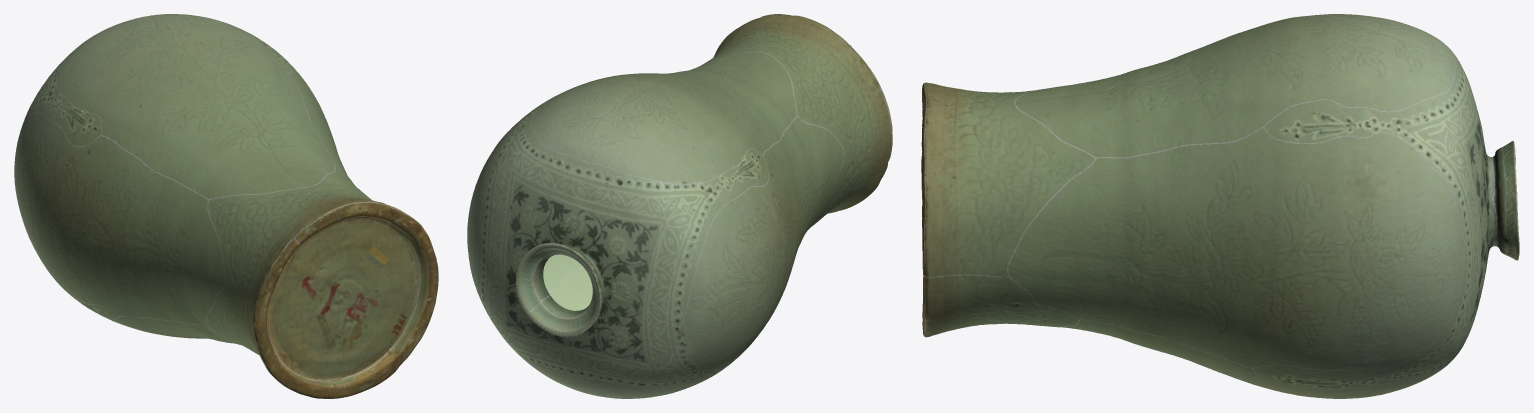
The model's file is nmk-350.glb.
3 views of the same model, side by side, from view 1: azimuth 30°, elevation 25°; view 2: azimuth 150°, elevation 25°; view 3: azimuth 270°, elevation 25° (orthographic). The views are drawn at different scales.
Parts seen in each view (by area): view 1: bon001981-001-30000; view 2: bon001981-001-30000; view 3: bon001981-001-30000.
Boxes of the visible parts, x1,y1,x2,y2 form: bon001981-001-30000: (14,14,438,398); bon001981-001-30000: (467,14,892,398); bon001981-001-30000: (921,14,1519,398).
Size of the model in its own units: 0.9521 by 0.9549 by 1.48.
Materials: 1 (1 with a texture image).
